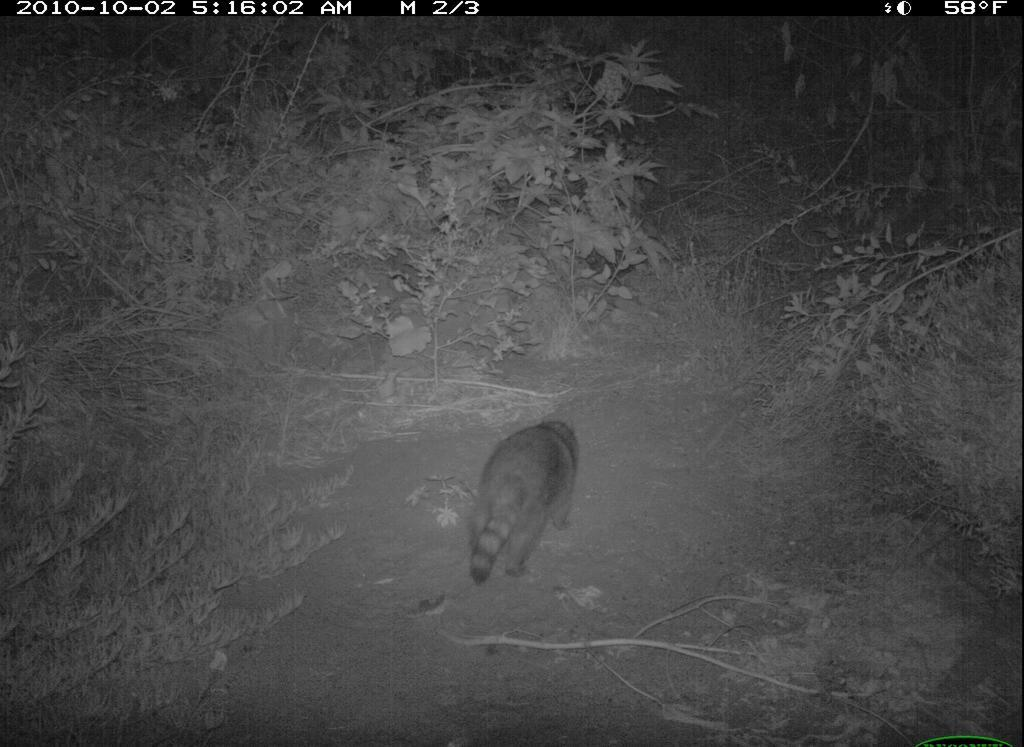raccoon: (447, 409, 592, 594)
